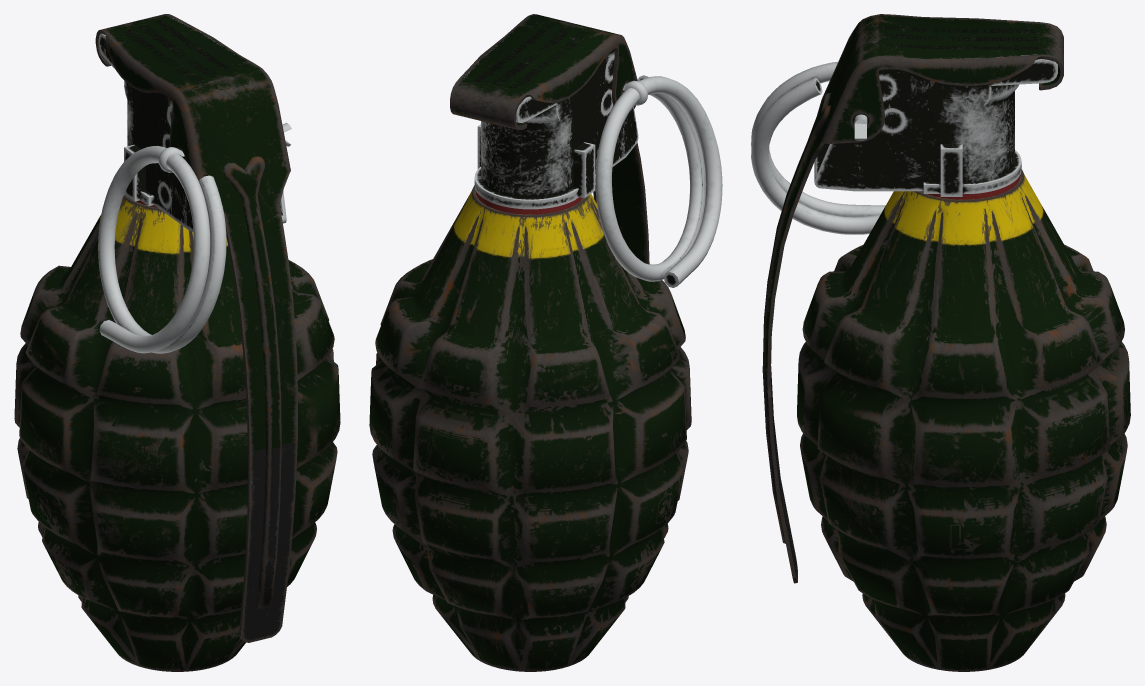
The model's file is grenade.glb.
The picture shows the model from 3 angles, left to right: view 1: azimuth 30°, elevation 25°; view 2: azimuth 150°, elevation 25°; view 3: azimuth 270°, elevation 25°; orthographic projection. The views are drawn at different scales.
Parts seen in each view (by area): view 1: e_low, a_low, c_low, d_low; view 2: e_low, a_low, d_low, c_low; view 3: e_low, a_low, d_low, c_low.
Boxes of the visible parts, x1=… form: e_low: x1=14, y1=194, x2=340, y2=671; a_low: x1=95, y1=14, x2=297, y2=642; c_low: x1=98, y1=145, x2=226, y2=353; d_low: x1=98, y1=33, x2=286, y2=231; e_low: x1=369, y1=185, x2=691, y2=671; a_low: x1=450, y1=14, x2=649, y2=264; d_low: x1=474, y1=49, x2=638, y2=209; c_low: x1=595, y1=75, x2=722, y2=287; e_low: x1=797, y1=169, x2=1130, y2=671; a_low: x1=762, y1=14, x2=1063, y2=583; d_low: x1=814, y1=59, x2=1057, y2=196; c_low: x1=751, y1=61, x2=885, y2=234.
Bounding box in the file's own units: 0.4132 × 0.8315 × 0.4698.
1 material, 1 textured.
